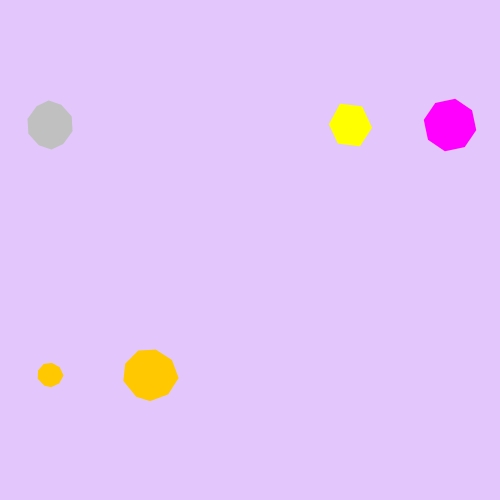decagon: (22, 100, 78, 151)
hexagon: (323, 103, 377, 148)
nonagon: (120, 346, 181, 405), (33, 359, 67, 392)
octagon: (420, 95, 480, 155)
